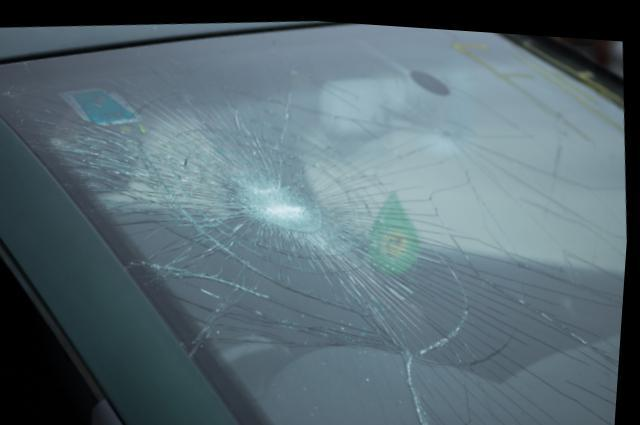glass shatter: (0, 18, 630, 425)
